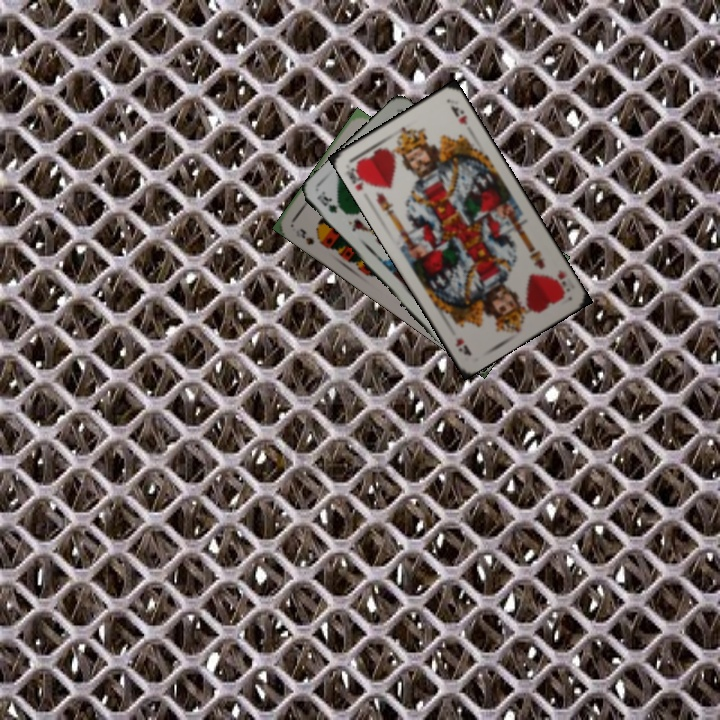GK: (313, 189, 340, 216)
HK: (342, 159, 374, 193), (547, 265, 573, 299)
S9: (296, 224, 327, 249)
